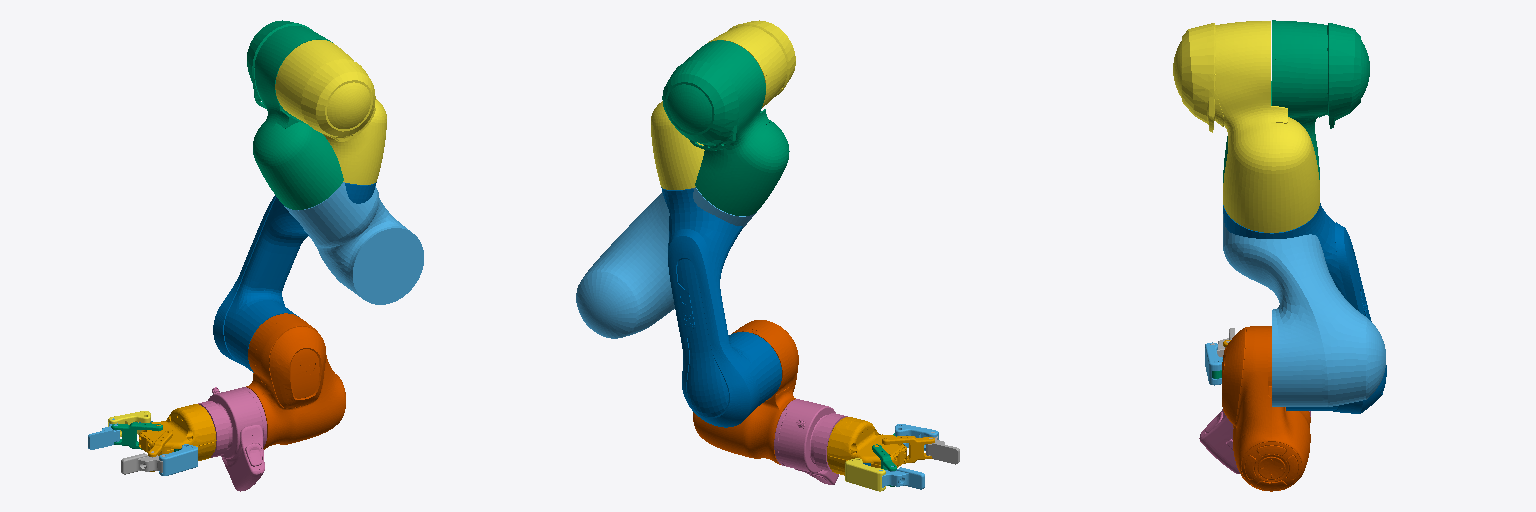
robot.urdf — franka_robotiq_2f_85:
<?xml version="1.0" encoding="UTF-8"?>
<robot name="franka_robotiq_2f_85">
  <joint name="finger_joint" type="revolute">
    <origin xyz="0.0216383 -0.0216383 0.0728365" rpy="1.5707965 0.0000001 -0.785398 "/>
    <parent link="base_link"/>
    <child link="left_outer_knuckle"/>
    <axis xyz="0. 0. 1."/>
    <limit lower="0." upper="0.7853982" effort="16.5" velocity="8.7266463"/>
  </joint>
  <joint name="left_inner_finger_joint" type="revolute">
    <origin xyz="0.0980938 0.0676871 -0.0133 " rpy="-3.1415925 0. -1.5967691"/>
    <parent link="left_outer_finger"/>
    <child link="left_inner_finger"/>
    <axis xyz="0. 0. 1."/>
    <limit lower="-3.1415927" upper="3.1415927" effort="10000000." velocity="174.5329252"/>
    <!-- <mimic joint="finger_joint" multiplier="1" offset="0" /> -->
  </joint>
  <joint name="left_inner_finger_knuckle_joint" type="revolute">
    <origin xyz="0.0175225 -0.0074742 -0.0133 " rpy="-3.1415925 -0.0000002 -0.0541607"/>
    <parent link="left_inner_finger"/>
    <child link="left_inner_knuckle"/>
    <axis xyz="0. 0. 1."/>
    <limit lower="-3.1415927" upper="3.1415927" effort="10000000." velocity="174.5329252"/>
    <!-- <mimic joint="finger_joint" multiplier="-1" offset="0" /> -->
  </joint>
  <joint name="left_outer_finger_FixedJoint" type="fixed">
    <origin xyz="-0.0295086 -0.05526 -0. " rpy="3.1415925 0.0000002 1.5906744"/>
    <parent link="left_outer_knuckle"/>
    <child link="left_outer_finger"/>
  </joint>
  <joint name="panda_hand_joint" type="fixed">
    <origin xyz="0. -0. -0." rpy="1.5707964 -0.7853981 -1.5707964"/>
    <parent link="panda_link8"/>
    <child link="base_link"/>
  </joint>
  <joint name="panda_joint1" type="revolute">
    <origin xyz="-0. 0. 0.333" rpy="0. -1.5707964 0. "/>
    <parent link="panda_link0"/>
    <child link="panda_link1"/>
    <axis xyz="1. 0. 0."/>
    <limit lower="-2.8973001" upper="2.8973001" effort="100000." velocity="10.0000005"/>
  </joint>
  <joint name="panda_joint2" type="revolute">
    <origin xyz="0. 0. 0." rpy="0. 0. 1.5707964"/>
    <parent link="panda_link1"/>
    <child link="panda_link2"/>
    <axis xyz="1. 0. 0."/>
    <limit lower="-1.7628" upper="1.7628" effort="100000." velocity="10.0000005"/>
  </joint>
  <joint name="panda_joint3" type="revolute">
    <origin xyz="-0.0000005 -0.2556517 0.1857369" rpy="0.0000032 -0.6283058 -1.5707983"/>
    <parent link="panda_link2"/>
    <child link="panda_link3"/>
    <axis xyz="1. 0. 0."/>
    <limit lower="-2.8973001" upper="2.8973001" effort="100000." velocity="10.0000005"/>
  </joint>
  <joint name="panda_joint4" type="revolute">
    <origin xyz="-0.0000001 0.0000002 -0.0824999" rpy="-0.0000002 0.0000023 -1.5707963"/>
    <parent link="panda_link3"/>
    <child link="panda_link4"/>
    <axis xyz="1. 0. 0."/>
    <limit lower="-3.0718" upper="-0.0698" effort="100000." velocity="10.0000005"/>
  </joint>
  <joint name="panda_joint5" type="revolute">
    <origin xyz="0. -0.2621694 -0.292454 " rpy="3.1415925 0.6283211 -1.5707963"/>
    <parent link="panda_link4"/>
    <child link="panda_link5"/>
    <axis xyz="1. 0. 0."/>
    <limit lower="-2.8973001" upper="2.8973001" effort="100000." velocity="10.0000005"/>
  </joint>
  <joint name="panda_joint6" type="revolute">
    <origin xyz="-0.0000001 -0.0000001 -0.0000001" rpy="-0. -0.0001352 -1.5707964"/>
    <parent link="panda_link5"/>
    <child link="panda_link6"/>
    <axis xyz="1. 0. 0."/>
    <limit lower="-0.0175" upper="3.7525" effort="100000." velocity="10.0000005"/>
  </joint>
  <joint name="panda_joint7" type="revolute">
    <origin xyz="0. 0.0836914 0.0271982" rpy="-3.141592 1.2565801 1.5707967"/>
    <parent link="panda_link6"/>
    <child link="panda_link7"/>
    <axis xyz="1. 0. 0."/>
    <limit lower="-2.8973001" upper="2.8973001" effort="100000." velocity="10.0000005"/>
  </joint>
  <joint name="panda_joint8" type="fixed">
    <origin xyz="0.107 -0. 0.0000001" rpy="3.141545 -0. 3.1415925"/>
    <parent link="panda_link7"/>
    <child link="panda_link8"/>
  </joint>
  <joint name="right_inner_finger_joint" type="revolute">
    <origin xyz="0.0980942 -0.0676843 -0.0133 " rpy="-3.1415925 -0. 1.5968281"/>
    <parent link="right_outer_finger"/>
    <child link="right_inner_finger"/>
    <axis xyz="0. 0. 1."/>
    <limit lower="-3.1415927" upper="3.1415927" effort="10000000." velocity="174.5329252"/>
    <!-- <mimic joint="left_inner_finger_joint" multiplier="1" offset="0" /> -->
  </joint>
  <joint name="right_inner_finger_knuckle_joint" type="revolute">
    <origin xyz="0.0174709 0.007594 -0.0133 " rpy="-0.0000002 0.0000001 0.0610087"/>
    <parent link="right_inner_finger"/>
    <child link="right_inner_knuckle"/>
    <axis xyz="0. 0. 1."/>
    <limit lower="-3.1415927" upper="3.1415927" effort="10000000." velocity="174.5329252"/>
    <!-- <mimic joint="left_inner_finger_knuckle_joint" multiplier="1" offset="0" /> -->
  </joint>
  <joint name="right_outer_finger_FixedJoint" type="fixed">
    <origin xyz="0.0291465 0.0554518 0. " rpy="-0.0000001 -0.0000003 -1.5443779"/>
    <parent link="right_outer_knuckle"/>
    <child link="right_outer_finger"/>
  </joint>
  <joint name="right_outer_knuckle_joint" type="revolute">
    <origin xyz="-0.0216383 0.0216383 0.0728365" rpy="-1.5707961 0.0000001 -0.785398 "/>
    <parent link="base_link"/>
    <child link="right_outer_knuckle"/>
    <axis xyz="0. 0. 1."/>
    <limit lower="0." upper="0.7853982" effort="5." velocity="174.5329252"/>
    <!-- <mimic joint="finger_joint" multiplier="1" offset="0" /> -->

  </joint>
  <joint name="rootJoint" type="fixed">
    <origin xyz="0. 0. 0." rpy="0. 0. 0."/>
    <parent link="panda"/>
    <child link="panda_link0"/>
  </joint>
  <link name="base_link">
    <inertial>
      <origin xyz="0.0000165 0.0000157 0.0502549" rpy="0. 0. 0."/>
      <mass value="0.6098911"/>
      <inertia ixx="0.0004518" ixy="0.0000889" ixz="0." iyy="0.0004518" iyz="0." izz="0.0004747"/>
    </inertial>
    <visual>
      <origin xyz="0. 0. 0.017932" rpy="1.5707961 -0.0000001 2.3561947"/>
      <geometry>
        <mesh filename="meshes/franka_robotiq_2f_85/Defeatured_2F_85_PAD_OPEN_basestep.obj" scale="1. 1. 1."/>
      </geometry>
    </visual>
    <collision>
      <origin xyz="0. 0. 0.017932" rpy="1.5707961 -0.0000001 2.3561947"/>
      <geometry>
        <mesh filename="meshes/franka_robotiq_2f_85/Defeatured_2F_85_PAD_OPEN_basestep.obj" scale="1. 1. 1."/>
      </geometry>
    </collision>
  </link>
  <link name="left_inner_finger">
    <inertial>
      <origin xyz="0.0180805 -0.0291535 -0.0133 " rpy="0. 0. 0."/>
      <mass value="0.0197616"/>
      <inertia ixx="0.000001" ixy="0.0000001" ixz="-0." iyy="0.0000028" iyz="-0." izz="0.0000032"/>
    </inertial>
    <visual>
      <origin xyz="0.0739814 0.0935379 -0.0133 " rpy="-3.1415925 -0.0000002 -0.0541606"/>
      <geometry>
        <mesh filename="meshes/franka_robotiq_2f_85/left_inner_finger_Defeatured_2F_85_PAD_OPEN_finger4step_01_Defeatured_2F_85_PAD_OPEN_finger4step.obj" scale="1. 1. 1."/>
      </geometry>
    </visual>
    <visual>
      <origin xyz="0.0739814 0.0935379 -0.0133 " rpy="-3.1415925 -0.0000002 -0.0541606"/>
      <geometry>
        <mesh filename="meshes/franka_robotiq_2f_85/left_inner_finger_Defeatured_2F_85_PAD_OPEN_fingertipsstep_01_Defeatured_2F_85_PAD_OPEN_fingertipsstep.obj" scale="1. 1. 1."/>
      </geometry>
    </visual>
    <collision>
      <origin xyz="0.0739814 0.0935379 -0.0133 " rpy="-3.1415925 -0.0000002 -0.0541606"/>
      <geometry>
        <mesh filename="meshes/franka_robotiq_2f_85/left_inner_finger_Defeatured_2F_85_PAD_OPEN_finger4step_01_Defeatured_2F_85_PAD_OPEN_finger4step.obj" scale="1. 1. 1."/>
      </geometry>
    </collision>
    <collision>
      <origin xyz="0.0739814 0.0935379 -0.0133 " rpy="-3.1415925 -0.0000002 -0.0541606"/>
      <geometry>
        <mesh filename="meshes/franka_robotiq_2f_85/left_inner_finger_Defeatured_2F_85_PAD_OPEN_fingertipsstep_01_Defeatured_2F_85_PAD_OPEN_fingertipsstep.obj" scale="1. 1. 1."/>
      </geometry>
    </collision>
  </link>
  <link name="left_inner_knuckle">
    <inertial>
      <origin xyz="0.0175578 -0.0214753 0. " rpy="0. 0. 0."/>
      <mass value="0.0273069"/>
      <inertia ixx="0.0000045" ixy="0.0000002" ixz="-0." iyy="0.000008" iyz="-0." izz="0.0000118"/>
    </inertial>
    <visual>
      <origin xyz="0.0452456 -0.1065077 0. " rpy="0.0000002 -0. -0.0538043"/>
      <geometry>
        <mesh filename="meshes/franka_robotiq_2f_85/left_inner_knuckle_Defeatured_2F_85_PAD_OPEN_finger3step_01_Defeatured_2F_85_PAD_OPEN_finger3step.obj" scale="1. 1. 1."/>
      </geometry>
    </visual>
    <collision>
      <origin xyz="0.0452456 -0.1065077 0. " rpy="0.0000002 -0. -0.0538043"/>
      <geometry>
        <mesh filename="meshes/franka_robotiq_2f_85/left_inner_knuckle_Defeatured_2F_85_PAD_OPEN_finger3step_01_Defeatured_2F_85_PAD_OPEN_finger3step.obj" scale="1. 1. 1."/>
      </geometry>
    </collision>
  </link>
  <link name="left_outer_finger">
    <inertial>
      <origin xyz="0.0695766 0.0655681 0.0000055" rpy="0. 0. 0."/>
      <mass value="0.0391792"/>
      <inertia ixx="0.0000109" ixy="-0.0000002" ixz="-0." iyy="0.0000043" iyz="-0." izz="0.0000132"/>
    </inertial>
    <visual>
      <origin xyz="-0.0010659 0.0014305 0. " rpy="0. 0. -1.596769"/>
      <geometry>
        <mesh filename="meshes/franka_robotiq_2f_85/left_outer_finger_Defeatured_2F_85_PAD_OPEN_finger2step_01_Defeatured_2F_85_PAD_OPEN_finger2step.obj" scale="1. 1. 1."/>
      </geometry>
    </visual>
    <collision>
      <origin xyz="-0.0010659 0.0014305 0. " rpy="0. 0. -1.596769"/>
      <geometry>
        <mesh filename="meshes/franka_robotiq_2f_85/left_outer_finger_Defeatured_2F_85_PAD_OPEN_finger2step_01_Defeatured_2F_85_PAD_OPEN_finger2step.obj" scale="1. 1. 1."/>
      </geometry>
    </collision>
  </link>
  <link name="left_outer_knuckle">
    <inertial>
      <origin xyz="0.0121412 -0.0003448 -0. " rpy="0. 0. 0."/>
      <mass value="0.0127346"/>
      <inertia ixx="0.0000003" ixy="-0.0000001" ixz="0." iyy="0.0000021" iyz="0." izz="0.0000021"/>
    </inertial>
    <visual>
      <origin xyz="-0.0281376 -0.0562069 0. " rpy="-3.1415925 -0. -3.0972557"/>
      <geometry>
        <mesh filename="meshes/franka_robotiq_2f_85/left_outer_knuckle_Defeatured_2F_85_PAD_OPEN_Finger1step_01_Defeatured_2F_85_PAD_OPEN_Finger1step.obj" scale="1. 1. 1."/>
      </geometry>
    </visual>
    <collision>
      <origin xyz="-0.0281376 -0.0562069 0. " rpy="-3.1415925 -0. -3.0972557"/>
      <geometry>
        <mesh filename="meshes/franka_robotiq_2f_85/left_outer_knuckle_Defeatured_2F_85_PAD_OPEN_Finger1step_01_Defeatured_2F_85_PAD_OPEN_Finger1step.obj" scale="1. 1. 1."/>
      </geometry>
    </collision>
  </link>
  <link name="panda"/>
  <link name="panda_link8">
    <inertial>
      <origin xyz="0. 0. 0." rpy="0. 0. 0."/>
      <mass value="0.1"/>
      <inertia ixx="0.000046" ixy="0." ixz="0." iyy="0.000046" iyz="0." izz="0.0000703"/>
    </inertial>
    <visual>
      <origin xyz="-0.009 -0. -0. " rpy="0. -1.5707964 0. "/>
      <geometry>
        <cylinder radius="0.0375" length="0.018"/>
      </geometry>
    </visual>
    <collision>
      <origin xyz="-0.009 -0. -0. " rpy="0. -1.5707964 0. "/>
      <geometry>
        <cylinder radius="0.0375" length="0.018"/>
      </geometry>
    </collision>
  </link>
  <link name="panda_link0">
    <inertial>
      <origin xyz="0. 0. 0." rpy="0. 0. 0."/>
      <mass value="2.8142028"/>
      <inertia ixx="0.0000013" ixy="0." ixz="0." iyy="0.0000017" iyz="0." izz="0.000002"/>
    </inertial>
    <visual>
      <origin xyz="-0. 0. 0." rpy="0. 0. 0."/>
      <geometry>
        <mesh filename="meshes/franka_robotiq_2f_85/panda_link0_geometry_panda_link0.obj" scale="1. 1. 1."/>
      </geometry>
    </visual>
    <collision>
      <origin xyz="-0. 0. 0." rpy="0. 0. 0."/>
      <geometry>
        <mesh filename="meshes/franka_robotiq_2f_85/panda_link0_geometry_panda_link0.obj" scale="1. 1. 1."/>
      </geometry>
    </collision>
  </link>
  <link name="panda_link1">
    <inertial>
      <origin xyz="0. 0. 0." rpy="0. 0. 0."/>
      <mass value="2.3599997"/>
      <inertia ixx="0.0000019" ixy="0." ixz="0." iyy="0.0000014" iyz="0." izz="0.0000009"/>
    </inertial>
    <visual>
      <origin xyz="0. 0. 0." rpy="0. 1.5707964 0. "/>
      <geometry>
        <mesh filename="meshes/franka_robotiq_2f_85/panda_link1_geometry_panda_link1.obj" scale="1. 1. 1."/>
      </geometry>
    </visual>
    <collision>
      <origin xyz="0. 0. 0." rpy="0. 1.5707964 0. "/>
      <geometry>
        <mesh filename="meshes/franka_robotiq_2f_85/panda_link1_geometry_panda_link1.obj" scale="1. 1. 1."/>
      </geometry>
    </collision>
  </link>
  <link name="panda_link2">
    <inertial>
      <origin xyz="0. 0. 0." rpy="0. 0. 0."/>
      <mass value="2.3795187"/>
      <inertia ixx="0.0000019" ixy="0." ixz="0." iyy="0.0000009" iyz="0." izz="0.0000015"/>
    </inertial>
    <visual>
      <origin xyz="0. 0. 0." rpy="-1.5707918 0.9424905 -1.5707928"/>
      <geometry>
        <mesh filename="meshes/franka_robotiq_2f_85/panda_link2_geometry_panda_link2.obj" scale="1. 1. 1."/>
      </geometry>
    </visual>
    <collision>
      <origin xyz="0. 0. 0." rpy="-1.5707918 0.9424905 -1.5707928"/>
      <geometry>
        <mesh filename="meshes/franka_robotiq_2f_85/panda_link2_geometry_panda_link2.obj" scale="1. 1. 1."/>
      </geometry>
    </collision>
  </link>
  <link name="panda_link3">
    <inertial>
      <origin xyz="0. 0. 0." rpy="0. 0. 0."/>
      <mass value="2.6498823"/>
      <inertia ixx="0.0000013" ixy="0." ixz="0." iyy="0.0000015" iyz="0." izz="0.0000014"/>
    </inertial>
    <visual>
      <origin xyz="-0.0000001 0. 0. " rpy="1.6407449 1.5707941 1.6407449"/>
      <geometry>
        <mesh filename="meshes/franka_robotiq_2f_85/panda_link3_geometry_panda_link3.obj" scale="1. 1. 1."/>
      </geometry>
    </visual>
    <collision>
      <origin xyz="-0.0000001 0. 0. " rpy="1.6407449 1.5707941 1.6407449"/>
      <geometry>
        <mesh filename="meshes/franka_robotiq_2f_85/panda_link3_geometry_panda_link3.obj" scale="1. 1. 1."/>
      </geometry>
    </collision>
  </link>
  <link name="panda_link4">
    <inertial>
      <origin xyz="0. 0. 0." rpy="0. 0. 0."/>
      <mass value="2.6948018"/>
      <inertia ixx="0.0000013" ixy="0." ixz="0." iyy="0.0000015" iyz="0." izz="0.0000016"/>
    </inertial>
    <visual>
      <origin xyz="0. 0. -0." rpy="-1.5707967 -0.9424753 -1.5707958"/>
      <geometry>
        <mesh filename="meshes/franka_robotiq_2f_85/panda_link4_geometry_panda_link4.obj" scale="1. 1. 1."/>
      </geometry>
    </visual>
    <collision>
      <origin xyz="0. 0. -0." rpy="-1.5707967 -0.9424753 -1.5707958"/>
      <geometry>
        <mesh filename="meshes/franka_robotiq_2f_85/panda_link4_geometry_panda_link4.obj" scale="1. 1. 1."/>
      </geometry>
    </collision>
  </link>
  <link name="panda_link5">
    <inertial>
      <origin xyz="0. 0. 0." rpy="0. 0. 0."/>
      <mass value="2.9812818"/>
      <inertia ixx="0.0000033" ixy="0." ixz="0." iyy="0.0000027" iyz="0." izz="0.0000012"/>
    </inertial>
    <visual>
      <origin xyz="-0.0000001 -0.0000001 -0.0000001" rpy="-1.5708063 1.5706611 -1.5708063"/>
      <geometry>
        <mesh filename="meshes/franka_robotiq_2f_85/panda_link5_geometry_panda_link5.obj" scale="1. 1. 1."/>
      </geometry>
    </visual>
    <collision>
      <origin xyz="-0.0000001 -0.0000001 -0.0000001" rpy="-1.5708063 1.5706611 -1.5708063"/>
      <geometry>
        <mesh filename="meshes/franka_robotiq_2f_85/panda_link5_geometry_panda_link5.obj" scale="1. 1. 1."/>
      </geometry>
    </collision>
  </link>
  <link name="panda_link6">
    <inertial>
      <origin xyz="0. 0. 0." rpy="0. 0. 0."/>
      <mass value="1.1285807"/>
      <inertia ixx="0.0000003" ixy="0." ixz="0." iyy="0.0000004" iyz="0." izz="0.0000005"/>
    </inertial>
    <visual>
      <origin xyz="0. -0.0000001 0.0000004" rpy="1.5707965 -0.3142162 1.5707961"/>
      <geometry>
        <mesh filename="meshes/franka_robotiq_2f_85/panda_link6_geometry_panda_link6.obj" scale="1. 1. 1."/>
      </geometry>
    </visual>
    <collision>
      <origin xyz="0. -0.0000001 0.0000004" rpy="1.5707965 -0.3142162 1.5707961"/>
      <geometry>
        <mesh filename="meshes/franka_robotiq_2f_85/panda_link6_geometry_panda_link6.obj" scale="1. 1. 1."/>
      </geometry>
    </collision>
  </link>
  <link name="panda_link7">
    <inertial>
      <origin xyz="0. 0. 0." rpy="0. 0. 0."/>
      <mass value="0.4052913"/>
      <inertia ixx="0.0000001" ixy="0." ixz="0." iyy="0.0000001" iyz="0." izz="0.0000001"/>
    </inertial>
    <visual>
      <origin xyz="-0. 0. 0.0000001" rpy="1.5707965 1.5707488 1.5707964"/>
      <geometry>
        <mesh filename="meshes/franka_robotiq_2f_85/panda_link7_geometry_panda_link7.obj" scale="1. 1. 1."/>
      </geometry>
    </visual>
    <collision>
      <origin xyz="-0. 0. 0.0000001" rpy="1.5707965 1.5707488 1.5707964"/>
      <geometry>
        <mesh filename="meshes/franka_robotiq_2f_85/panda_link7_geometry_panda_link7.obj" scale="1. 1. 1."/>
      </geometry>
    </collision>
  </link>
  <link name="right_inner_finger">
    <inertial>
      <origin xyz="0.0178804 0.0292766 -0.0133 " rpy="0. 0. 0."/>
      <mass value="0.0197616"/>
      <inertia ixx="0.000001" ixy="-0.0000001" ixz="0." iyy="0.0000028" iyz="0." izz="0.0000032"/>
    </inertial>
    <visual>
      <origin xyz="0.0746202 -0.0930291 -0.0133 " rpy="-0.0000002 0.0000001 0.0610086"/>
      <geometry>
        <mesh filename="meshes/franka_robotiq_2f_85/right_inner_finger_Defeatured_2F_85_PAD_OPEN_finger4step_01_Defeatured_2F_85_PAD_OPEN_finger4step.obj" scale="1. 1. 1."/>
      </geometry>
    </visual>
    <visual>
      <origin xyz="0.0746202 -0.0930291 -0.0133 " rpy="-0.0000002 0.0000001 0.0610086"/>
      <geometry>
        <mesh filename="meshes/franka_robotiq_2f_85/right_inner_finger_Defeatured_2F_85_PAD_OPEN_fingertipsstep_01_Defeatured_2F_85_PAD_OPEN_fingertipsstep.obj" scale="1. 1. 1."/>
      </geometry>
    </visual>
    <collision>
      <origin xyz="0.0746202 -0.0930291 -0.0133 " rpy="-0.0000002 0.0000001 0.0610086"/>
      <geometry>
        <mesh filename="meshes/franka_robotiq_2f_85/right_inner_finger_Defeatured_2F_85_PAD_OPEN_finger4step_01_Defeatured_2F_85_PAD_OPEN_finger4step.obj" scale="1. 1. 1."/>
      </geometry>
    </collision>
    <collision>
      <origin xyz="0.0746202 -0.0930291 -0.0133 " rpy="-0.0000002 0.0000001 0.0610086"/>
      <geometry>
        <mesh filename="meshes/franka_robotiq_2f_85/right_inner_finger_Defeatured_2F_85_PAD_OPEN_fingertipsstep_01_Defeatured_2F_85_PAD_OPEN_fingertipsstep.obj" scale="1. 1. 1."/>
      </geometry>
    </collision>
  </link>
  <link name="right_inner_knuckle">
    <inertial>
      <origin xyz="0.0174099 -0.0215953 0. " rpy="0. 0. 0."/>
      <mass value="0.0273069"/>
      <inertia ixx="0.0000045" ixy="0.0000002" ixz="0." iyy="0.000008" iyz="-0." izz="0.0000118"/>
    </inertial>
    <visual>
      <origin xyz="0.0445133 -0.1068158 -0. " rpy="0.0000004 0.0000001 -0.0606703"/>
      <geometry>
        <mesh filename="meshes/franka_robotiq_2f_85/right_inner_knuckle_Defeatured_2F_85_PAD_OPEN_finger3step_01_Defeatured_2F_85_PAD_OPEN_finger3step.obj" scale="1. 1. 1."/>
      </geometry>
    </visual>
    <collision>
      <origin xyz="0.0445133 -0.1068158 -0. " rpy="0.0000004 0.0000001 -0.0606703"/>
      <geometry>
        <mesh filename="meshes/franka_robotiq_2f_85/right_inner_knuckle_Defeatured_2F_85_PAD_OPEN_finger3step_01_Defeatured_2F_85_PAD_OPEN_finger3step.obj" scale="1. 1. 1."/>
      </geometry>
    </collision>
  </link>
  <link name="right_outer_finger">
    <inertial>
      <origin xyz="0.0695769 -0.0655669 -0.0000056" rpy="0. 0. 0."/>
      <mass value="0.0391792"/>
      <inertia ixx="0.0000109" ixy="0.0000002" ixz="0." iyy="0.0000043" iyz="-0." izz="0.0000132"/>
    </inertial>
    <visual>
      <origin xyz="-0.0010695 -0.0014336 -0. " rpy="-3.1415925 -0. 1.5968281"/>
      <geometry>
        <mesh filename="meshes/franka_robotiq_2f_85/right_outer_finger_Defeatured_2F_85_PAD_OPEN_finger2step_01_Defeatured_2F_85_PAD_OPEN_finger2step.obj" scale="1. 1. 1."/>
      </geometry>
    </visual>
    <collision>
      <origin xyz="-0.0010695 -0.0014336 -0. " rpy="-3.1415925 -0. 1.5968281"/>
      <geometry>
        <mesh filename="meshes/franka_robotiq_2f_85/right_outer_finger_Defeatured_2F_85_PAD_OPEN_finger2step_01_Defeatured_2F_85_PAD_OPEN_finger2step.obj" scale="1. 1. 1."/>
      </geometry>
    </collision>
  </link>
  <link name="right_outer_knuckle">
    <inertial>
      <origin xyz="-0.0121432 0.0002654 0. " rpy="0. 0. 0."/>
      <mass value="0.0127346"/>
      <inertia ixx="0.0000003" ixy="-0.0000001" ixz="0." iyy="0.0000021" iyz="0." izz="0.0000021"/>
    </inertial>
    <visual>
      <origin xyz="0.0277694 0.0563897 0. " rpy="3.1415923 0. 0.0508773"/>
      <geometry>
        <mesh filename="meshes/franka_robotiq_2f_85/right_outer_knuckle_Defeatured_2F_85_PAD_OPEN_Finger1step_01_Defeatured_2F_85_PAD_OPEN_Finger1step.obj" scale="1. 1. 1."/>
      </geometry>
    </visual>
    <collision>
      <origin xyz="0.0277694 0.0563897 0. " rpy="3.1415923 0. 0.0508773"/>
      <geometry>
        <mesh filename="meshes/franka_robotiq_2f_85/right_outer_knuckle_Defeatured_2F_85_PAD_OPEN_Finger1step_01_Defeatured_2F_85_PAD_OPEN_Finger1step.obj" scale="1. 1. 1."/>
      </geometry>
    </collision>
  </link>
  <link name="grasp_frame">
    <inertial>
      <origin xyz="0. 0. 0." rpy="0. 0. 0."/>
      <mass value="0.001"/>
      <inertia ixx="0.000001" ixy="0." ixz="0." iyy="0.000001" iyz="0." izz="0.000001"/>
    </inertial>
  </link>

  <joint name="grasp_frame_joint" type="fixed">
    <!-- Parent: base_link (Robotiq mount), which is the common ancestor -->
    <!-- Midpoint of fingertips in base_link frame, averaged from URDF kinematics -->
    <origin xyz="0.0 0.0 0.15335" rpy="0. 0. 0."/>
    <parent link="base_link"/>
    <child link="grasp_frame"/>
  </joint>
</robot>

--- What the picture shows (computed from the rendered views, not written in the file) ---
3 views of the same robot in one strip: view 1: azimuth 30°, elevation 25°; view 2: azimuth 150°, elevation 25°; view 3: azimuth 270°, elevation 25° (orthographic).
Robot: franka_robotiq_2f_85 — 20 links, 19 joints (13 revolute, 6 fixed); root link panda; default pose: joints at zero except 1 at the middle of their limits (panda_joint4 = -1.57).
Links seen in each view (by area): view 1: panda_link4, panda_link3, panda_link6, panda_link2, panda_link5, panda_link7, base_link, right_outer_finger, panda_link8, right_inner_finger, left_inner_knuckle, left_inner_finger; view 2: panda_link5, panda_link3, panda_link2, panda_link4, panda_link6, panda_link7, base_link, left_outer_finger, panda_link8, left_inner_finger, right_inner_knuckle, right_inner_finger; view 3: panda_link4, panda_link2, panda_link6, panda_link3, panda_link5, panda_link7, right_outer_finger.
Link boxes in pixels (x1=…): panda_link4: x1=275, y1=40, x2=386, y2=184; panda_link3: x1=247, y1=20, x2=343, y2=209; panda_link6: x1=246, y1=313, x2=345, y2=449; panda_link2: x1=284, y1=182, x2=423, y2=304; panda_link5: x1=213, y1=182, x2=376, y2=372; panda_link7: x1=208, y1=387, x2=266, y2=491; base_link: x1=139, y1=404, x2=216, y2=460; right_outer_finger: x1=159, y1=444, x2=197, y2=475; panda_link8: x1=198, y1=401, x2=228, y2=457; right_inner_finger: x1=121, y1=451, x2=164, y2=474; left_inner_knuckle: x1=111, y1=422, x2=162, y2=449; left_inner_finger: x1=88, y1=418, x2=119, y2=449; panda_link5: x1=661, y1=187, x2=781, y2=427; panda_link3: x1=662, y1=40, x2=789, y2=215; panda_link2: x1=576, y1=187, x2=756, y2=338; panda_link4: x1=651, y1=20, x2=795, y2=189; panda_link6: x1=693, y1=320, x2=798, y2=464; panda_link7: x1=774, y1=399, x2=838, y2=484; base_link: x1=827, y1=417, x2=906, y2=475; left_outer_finger: x1=845, y1=458, x2=885, y2=491; panda_link8: x1=814, y1=413, x2=847, y2=472; left_inner_finger: x1=879, y1=466, x2=924, y2=489; right_inner_knuckle: x1=882, y1=436, x2=934, y2=463; right_inner_finger: x1=926, y1=432, x2=959, y2=464; panda_link4: x1=1173, y1=21, x2=1319, y2=232; panda_link2: x1=1223, y1=214, x2=1385, y2=406; panda_link6: x1=1222, y1=326, x2=1310, y2=491; panda_link3: x1=1223, y1=20, x2=1369, y2=182; panda_link5: x1=1223, y1=203, x2=1386, y2=413; panda_link7: x1=1199, y1=409, x2=1310, y2=473; right_outer_finger: x1=1205, y1=342, x2=1222, y2=385.
Size in the robot's own frame: 0.4896 by 0.2409 by 0.615 metres.
Meshes: 19 distinct files referenced, 17 mesh visuals loaded (17 OBJ); not drawn: 2 (reference not matched to a file when rendering).
